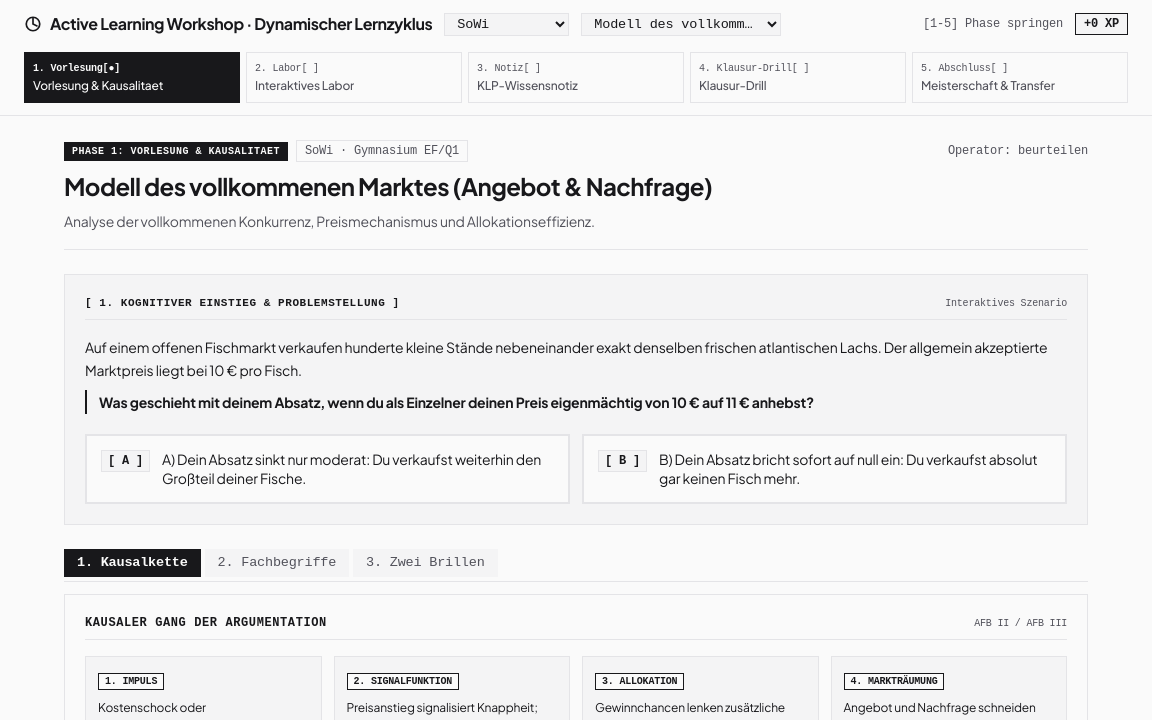
ActiveLearningWorkshop Component › renders radar chart with center coordinates and transform style in Phase 5
The width and height of the screenshot is (1152, 720).
跳转至 Phase 5
Click the button "5. Abschluss [ ] Meisterschaft & Transfer".
click(1020, 78)  # box [912,52,1128,103]
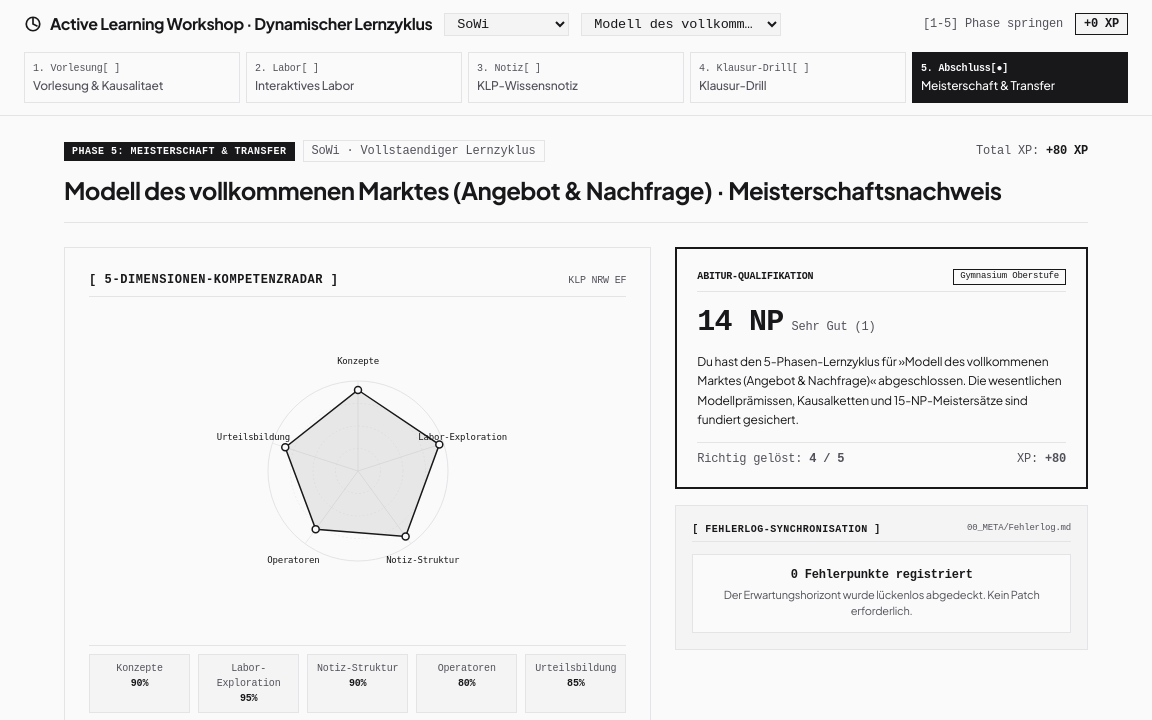
Now the text "[ 5-Dimensionen-Kompetenzradar ]" is shown, box [89,272,339,288]
Now the picture named "Kompetenzradar Chart" is shown, box [208,321,508,621]
